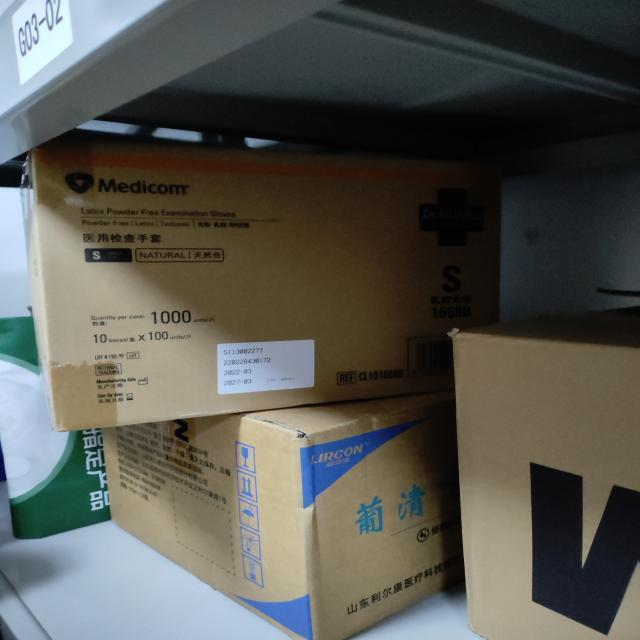box: (23, 139, 503, 436), (102, 392, 461, 640), (450, 304, 640, 640)
